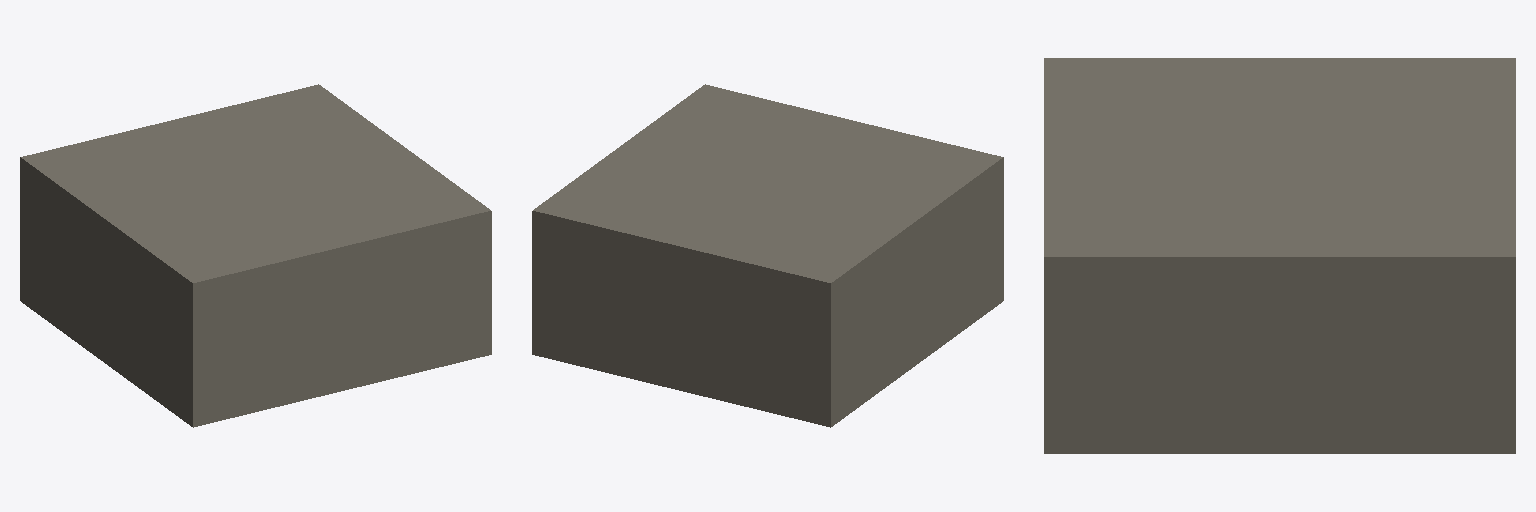
The robot description file, URDF, robot "parttoolgen_brush_sweep_block_square_065_table":
<?xml version="1.0"?>
<robot name="parttoolgen_brush_sweep_block_square_065_table">
  <link name="box">
    <visual>
      <material name="light_wood">
        <color rgba="0.52 0.50 0.46 1.0"/>
      </material>
      <origin xyz="0 0 0"/>
      <geometry>
        <box size="0.65 0.65 0.30"/>
      </geometry>
    </visual>
    <collision>
      <origin xyz="0 0 0"/>
      <geometry>
        <box size="0.65 0.65 0.30"/>
      </geometry>
    </collision>
    <inertial>
      <mass value="500"/>
      <friction value="1.0"/>
      <inertia ixx="1000.0" ixy="0.0" ixz="0.0" iyy="1000.0" iyz="0.0" izz="1000.0"/>
    </inertial>
  </link>
</robot>

--- Render facts (derived) ---
3 views of the same robot in one strip: view 1: azimuth 30°, elevation 25°; view 2: azimuth 150°, elevation 25°; view 3: azimuth 270°, elevation 25° (orthographic).
Model parttoolgen_brush_sweep_block_square_065_table with 1 links and 0 joints (none), rooted at box, posed every joint at zero.
Visible links, largest first — view 1: box; view 2: box; view 3: box.
Boxes of the visible links, box(x1,y1,x2,y2) form: box: box(20, 84, 491, 427); box: box(532, 84, 1003, 427); box: box(1044, 58, 1515, 453).
Size in the robot's own frame: 0.65 by 0.65 by 0.3 metres.
Geometry: primitives only (box / cylinder / sphere), no mesh files.
